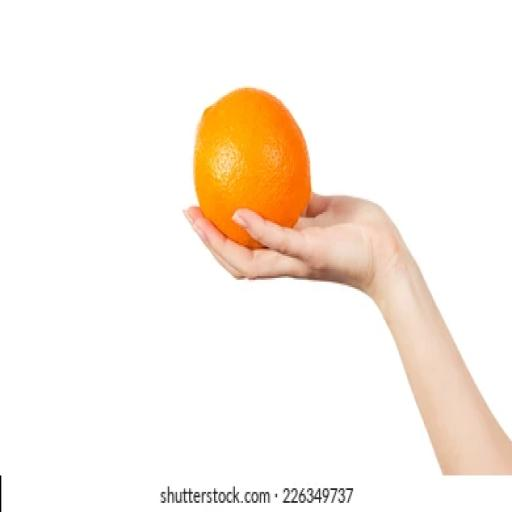orange: (195, 88, 311, 248)
